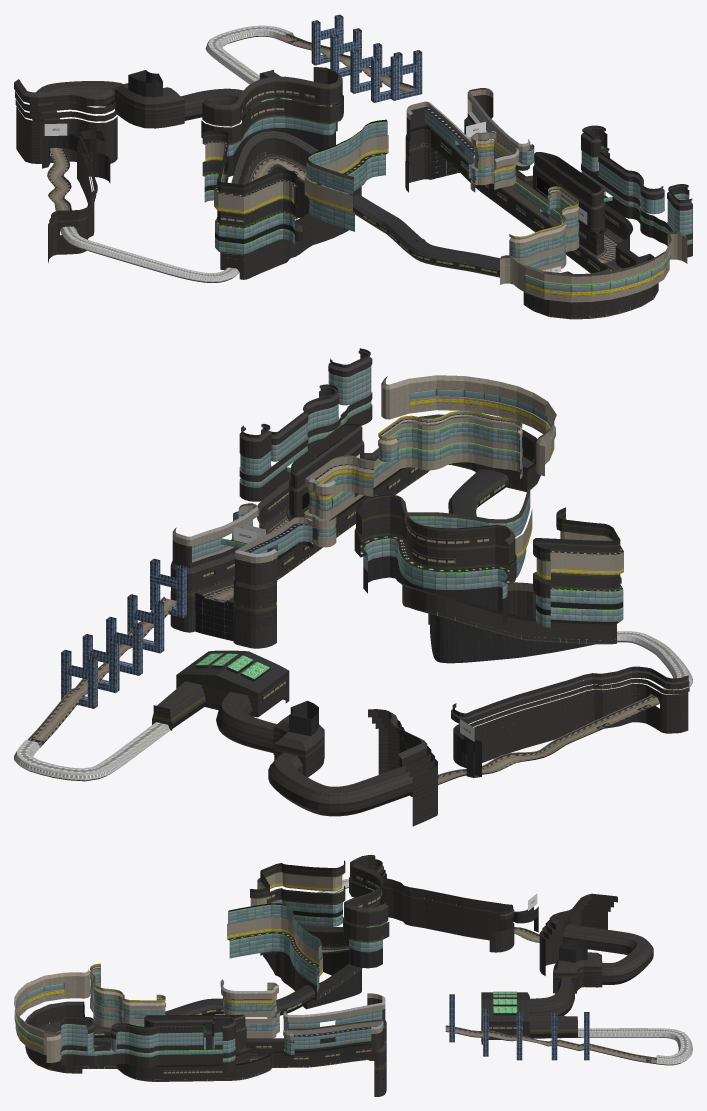
Rendered from GareDE.FBX.
The picture shows the model from 3 angles, top to bottom: view 1: azimuth 30°, elevation 25°; view 2: azimuth 150°, elevation 25°; view 3: azimuth 270°, elevation 25°; orthographic projection. The views are drawn at different scales.
Parts seen in each view (by area): view 1: Object001, TrackFloor, TrackWalls; view 2: Object001, TrackFloor, TrackWalls; view 3: Object001, TrackWalls, TrackFloor.
Part boxes in pixels (bbox=[...]): Object001: bbox=[14, 14, 692, 319]; TrackFloor: bbox=[48, 34, 616, 271]; TrackWalls: bbox=[47, 33, 618, 282]; Object001: bbox=[14, 348, 692, 826]; TrackFloor: bbox=[30, 519, 659, 784]; TrackWalls: bbox=[19, 488, 680, 816]; Object001: bbox=[14, 855, 692, 1096]; TrackWalls: bbox=[56, 887, 686, 1065]; TrackFloor: bbox=[60, 929, 656, 1063].
Size of the model in its own units: 167 by 47.23 by 238.
Materials: 2 (2 with a texture image).
